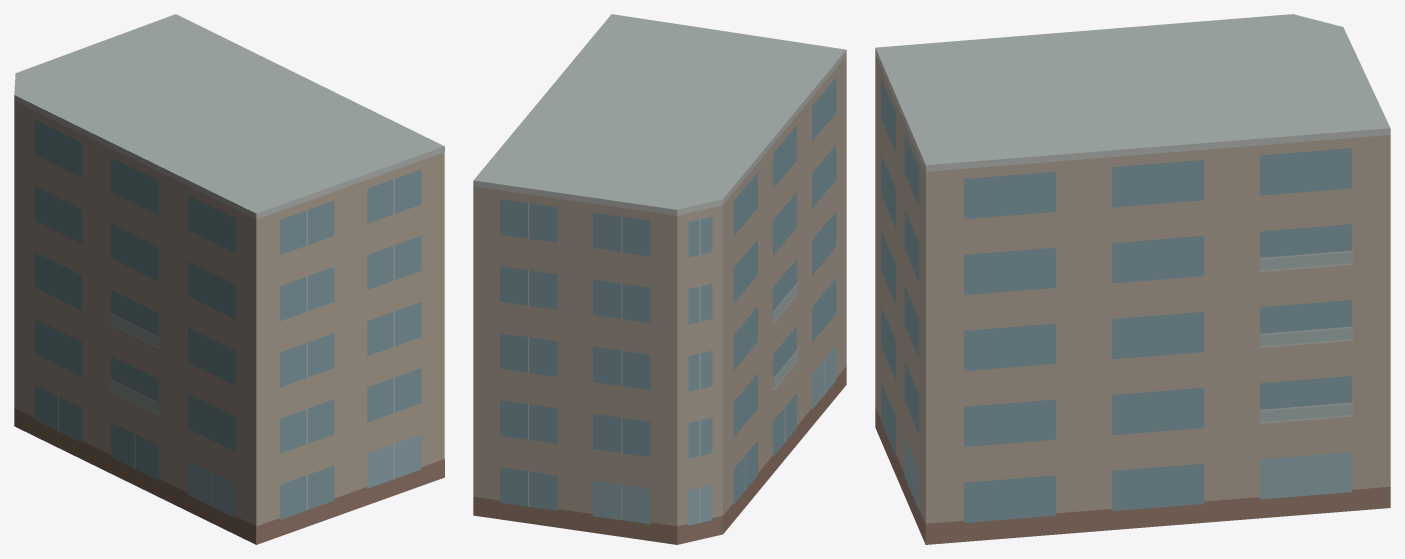
File: survey-upis-32490135.glb
The picture shows the model from 3 angles, left to right: view 1: azimuth 30°, elevation 25°; view 2: azimuth 150°, elevation 25°; view 3: azimuth 270°, elevation 25°; orthographic projection. The views are drawn at different scales.
Parts seen in each view (by area): view 1: survey-upis-32490135.tmp; view 2: survey-upis-32490135.tmp; view 3: survey-upis-32490135.tmp.
Part boxes in pixels (left/top/right/bottom): survey-upis-32490135.tmp: left=14, top=14, right=444, bottom=544; survey-upis-32490135.tmp: left=473, top=14, right=846, bottom=544; survey-upis-32490135.tmp: left=875, top=14, right=1390, bottom=544.
Size of the model in its own units: 11.88 by 13.9 by 17.11.
